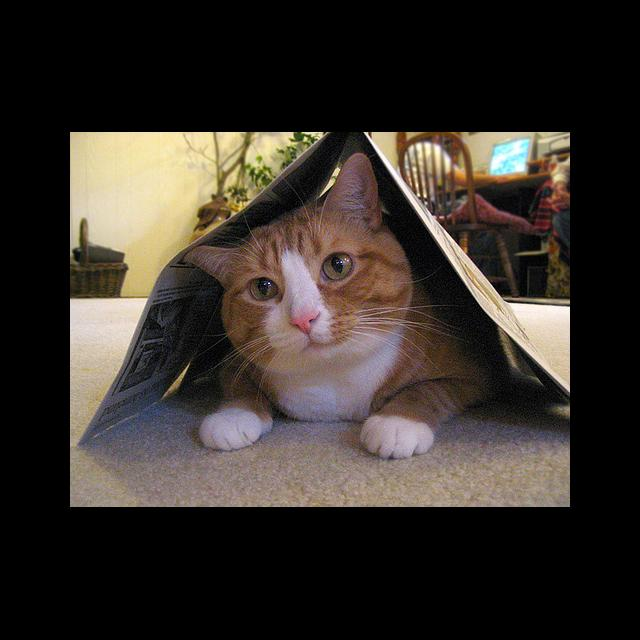animals: (182, 154, 383, 334)
